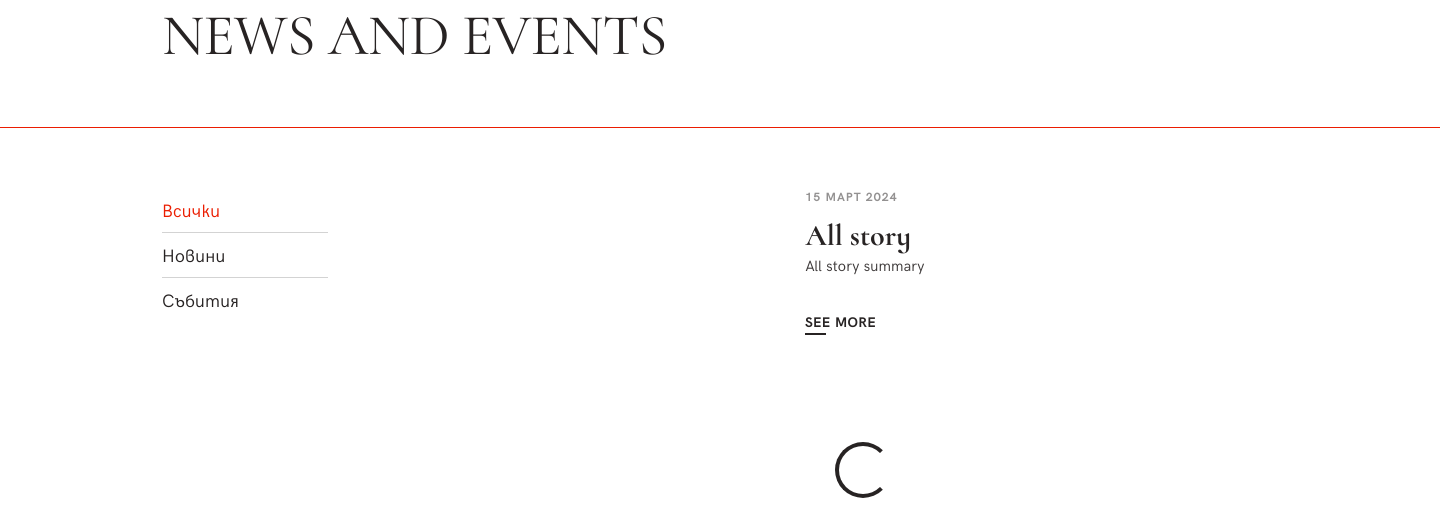
Scenario: NewsPage › switches category, resets the visible list and does not reload the active tab
The image size is (1440, 515).
Later steps or results of the test are not shown.
expect the link "All story" is shown: met, box [805, 219, 911, 253]
Click the button "Новини": (245, 254) [162, 232, 328, 277]
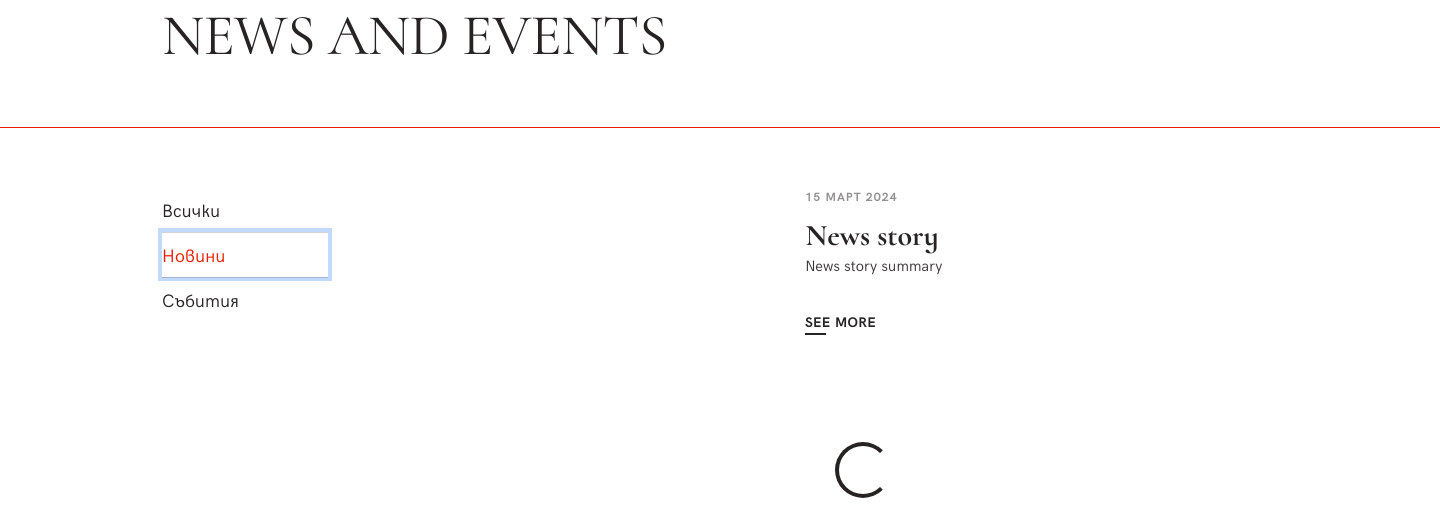
expect the link "News story" is shown: met, box [805, 219, 938, 253]
expect the link "All story" is gone: met
